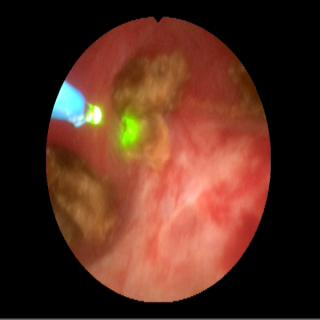fiber: (53, 82, 84, 125)
laser: (123, 116, 138, 146), (84, 104, 101, 124)
stone: (114, 50, 187, 172), (49, 147, 118, 246)
tissue: (49, 20, 268, 298)
